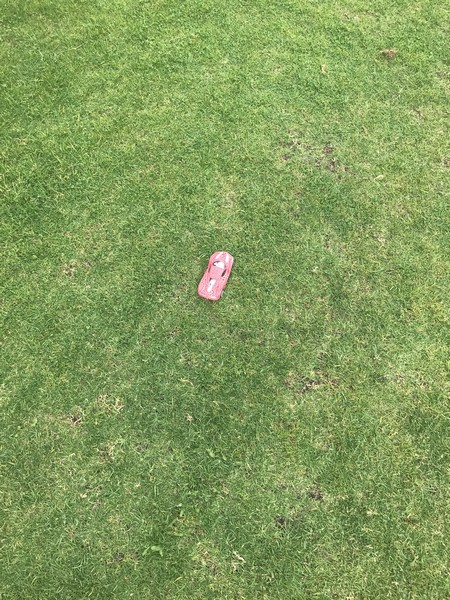RC: (197, 250, 238, 302)
